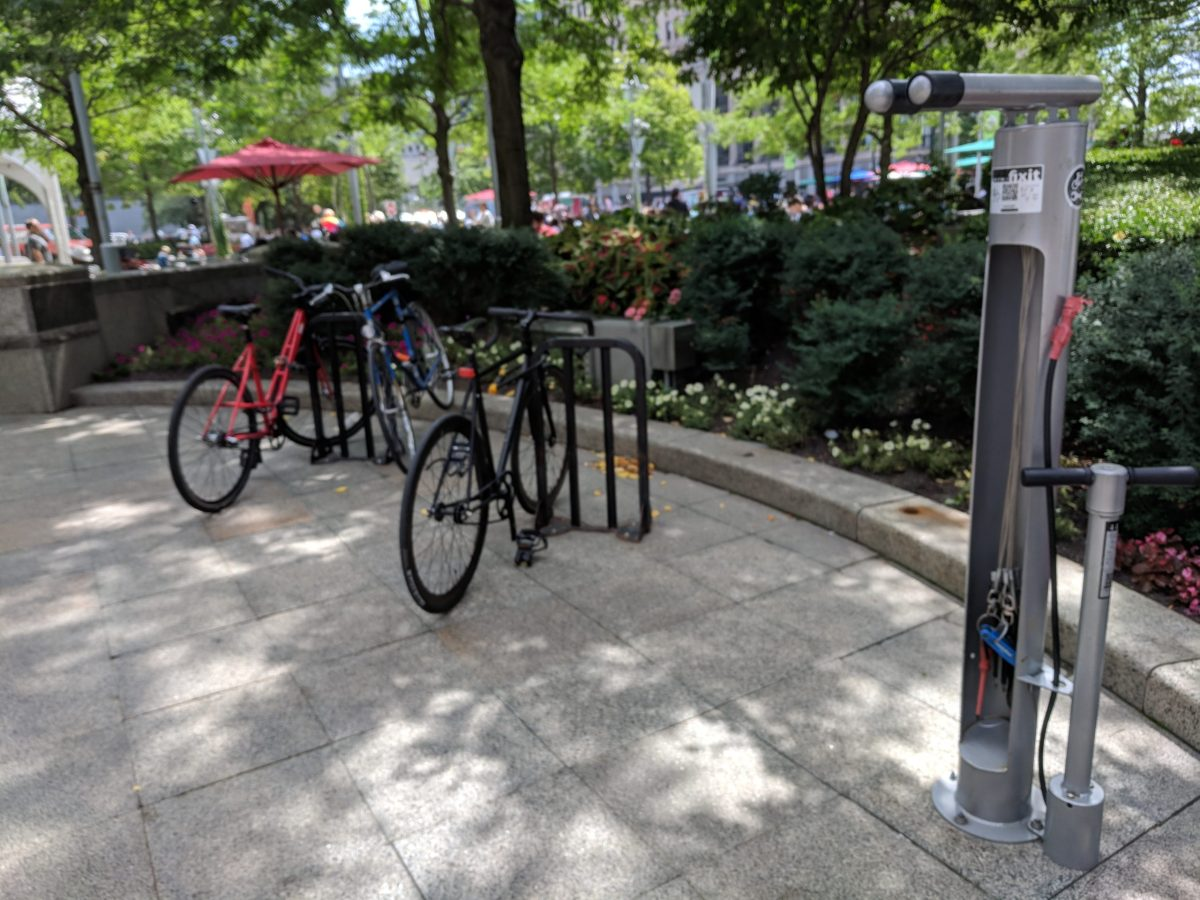bike: (393, 272, 640, 623)
